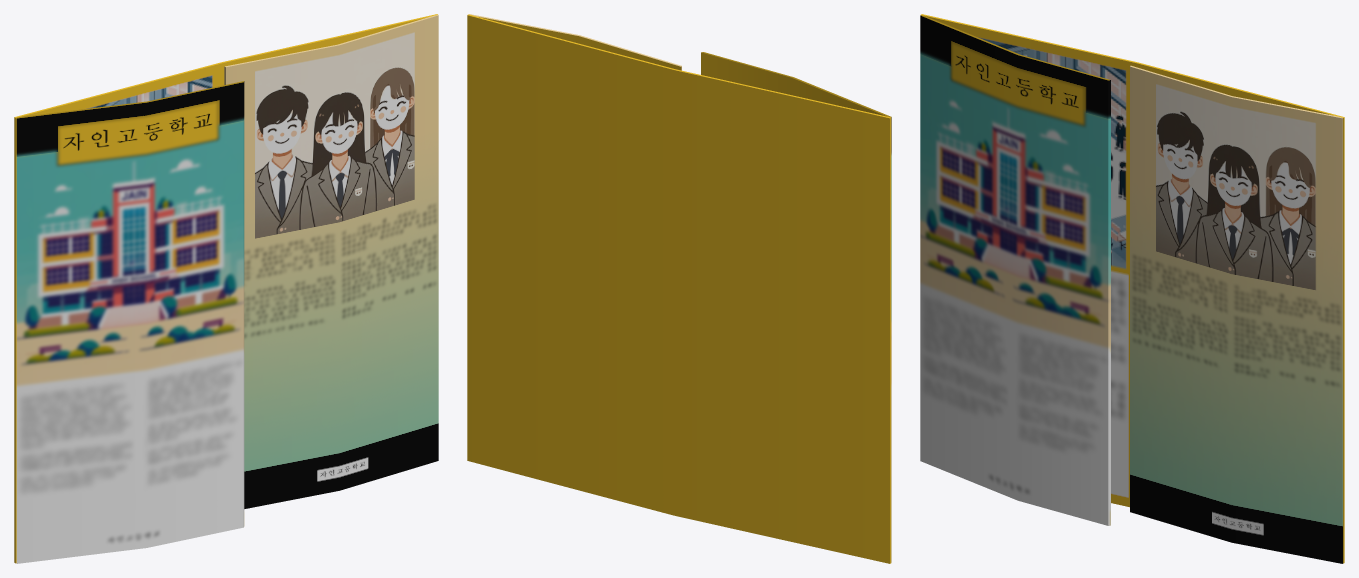
The model's file is M_Pamplet.fbx.
The picture shows the model from 3 angles, left to right: view 1: azimuth 30°, elevation 25°; view 2: azimuth 150°, elevation 25°; view 3: azimuth 330°, elevation 25°; orthographic projection.
Parts seen in each view (by area): view 1: pamphlet_GEO; view 2: pamphlet_GEO; view 3: pamphlet_GEO.
Boxes of the visible parts, bbox=[...] form: pamphlet_GEO: bbox=[14, 14, 438, 563]; pamphlet_GEO: bbox=[467, 14, 891, 563]; pamphlet_GEO: bbox=[920, 14, 1344, 563].
Size of the model in its own units: 7.55 by 7.6 by 0.8021.
Materials: 1 (1 with a texture image).
